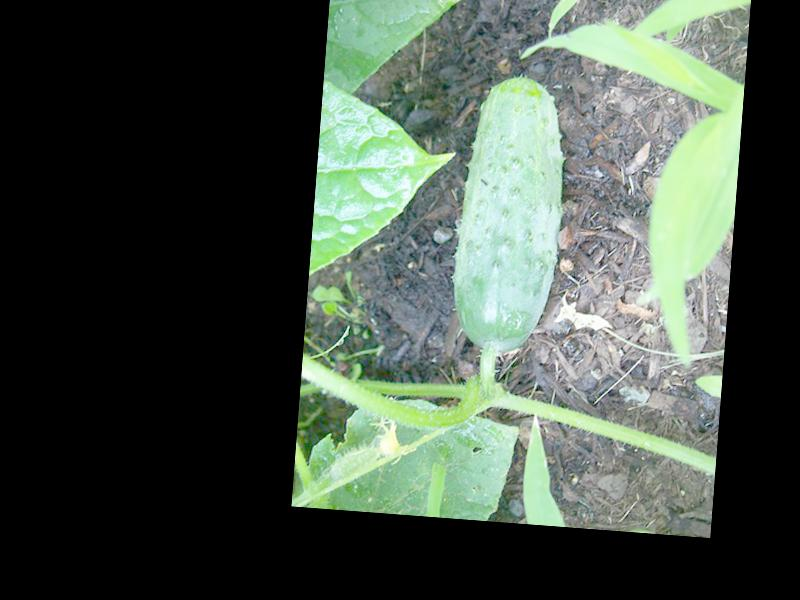Cucumber: (448, 70, 572, 356)
